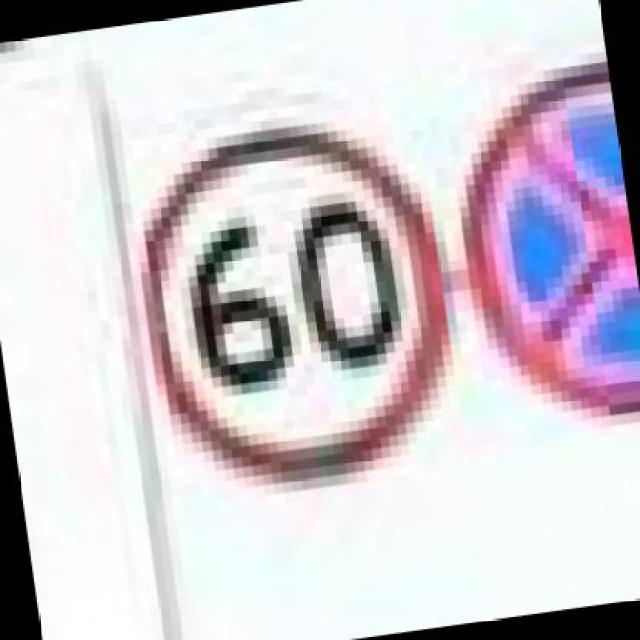Limite-60: (142, 120, 457, 490)
